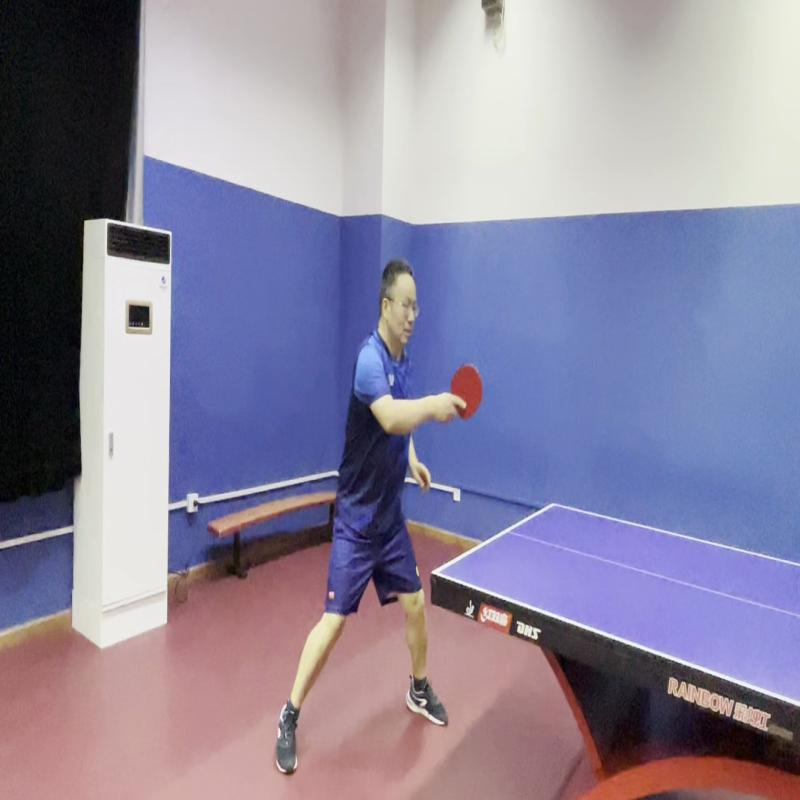bats: (439, 359, 490, 431)
